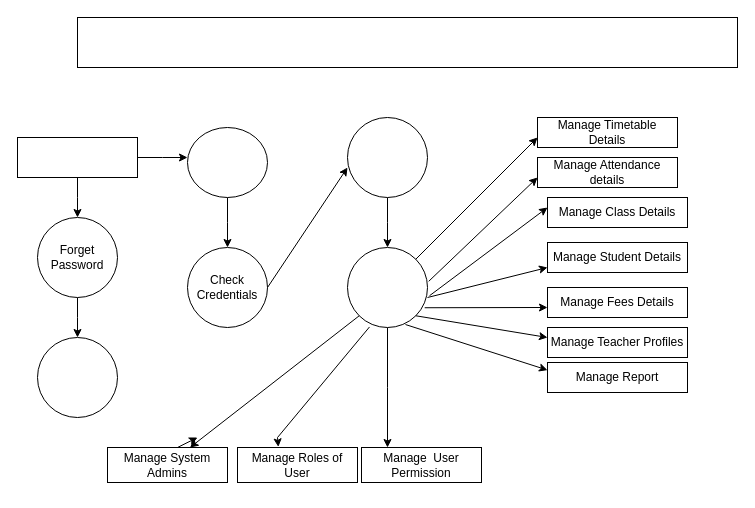
The diagram is 755 pixels wide and 508 high, and some of its shapes have lost their labels. The shapes that lost their labels are listed below. From the top down, each one's centre as x and y in pixels, then its label:
At point 407,42: "Student Information System".
At point 77,157: "Admin".
At point 227,162: "Login to System".
At point 387,157: "Check Rules of Access".
At point 387,287: "Manage Modules".
At point 77,377: "Send Email to User".
